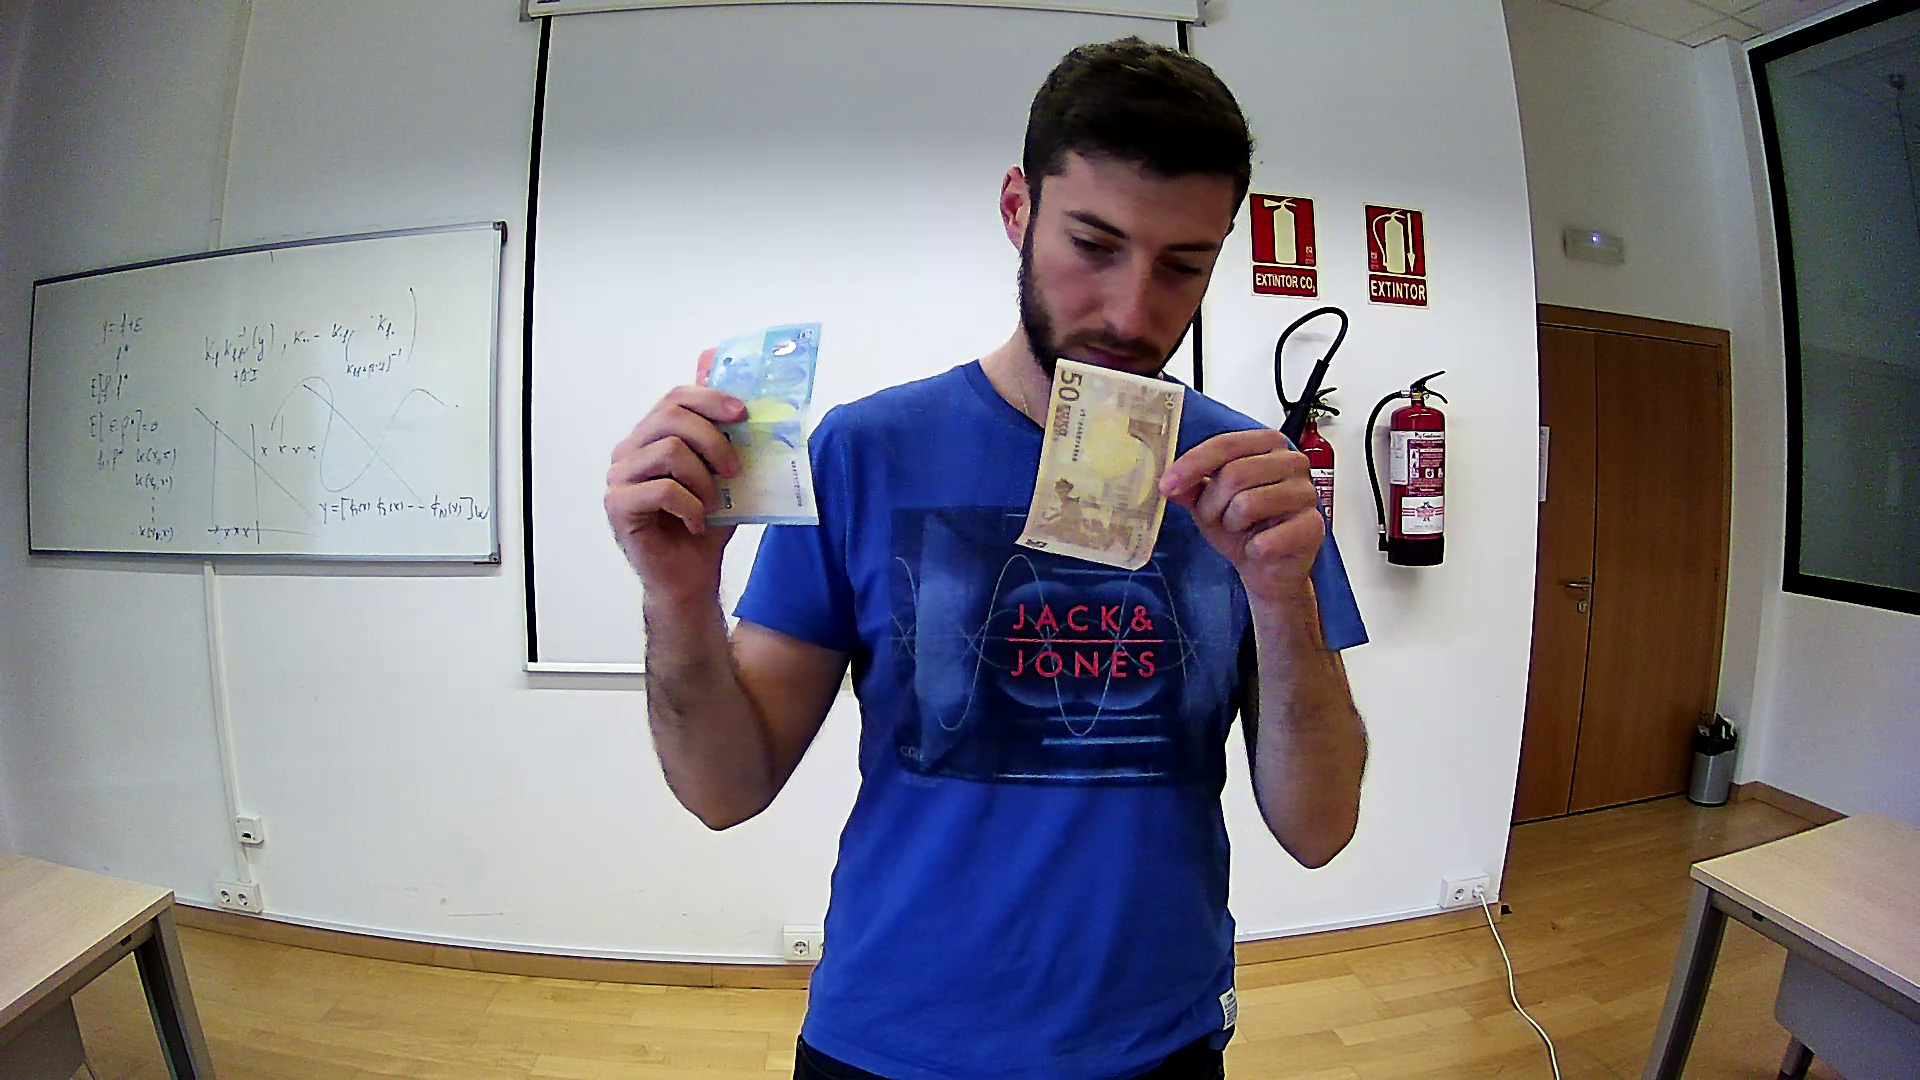billete: (1014, 357, 1185, 571), (694, 324, 824, 531)
